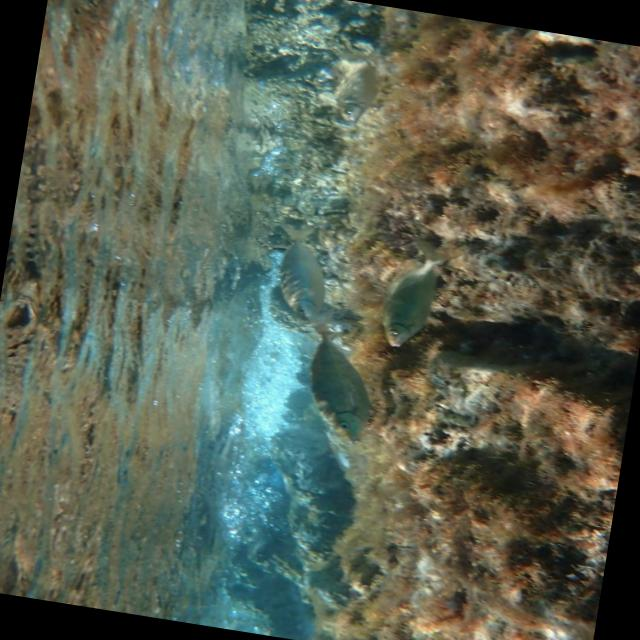Sokar Baligi: (370, 237, 460, 356), (262, 218, 346, 332)
